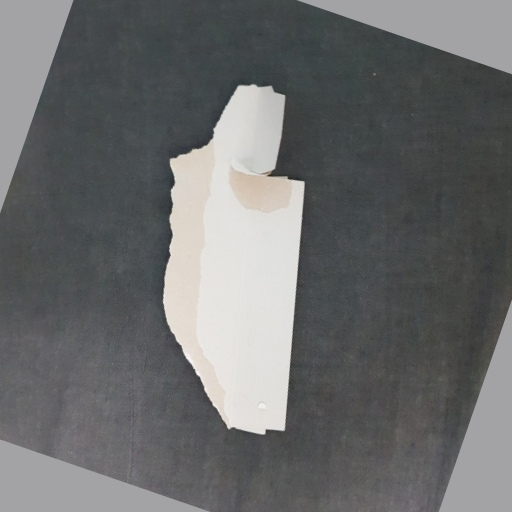Paper_3: (163, 72, 323, 436)
